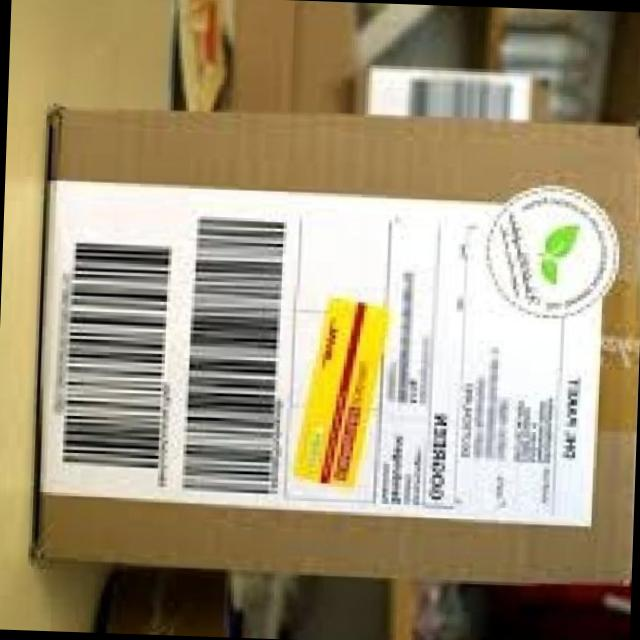cardboard paper: (37, 109, 640, 582)
